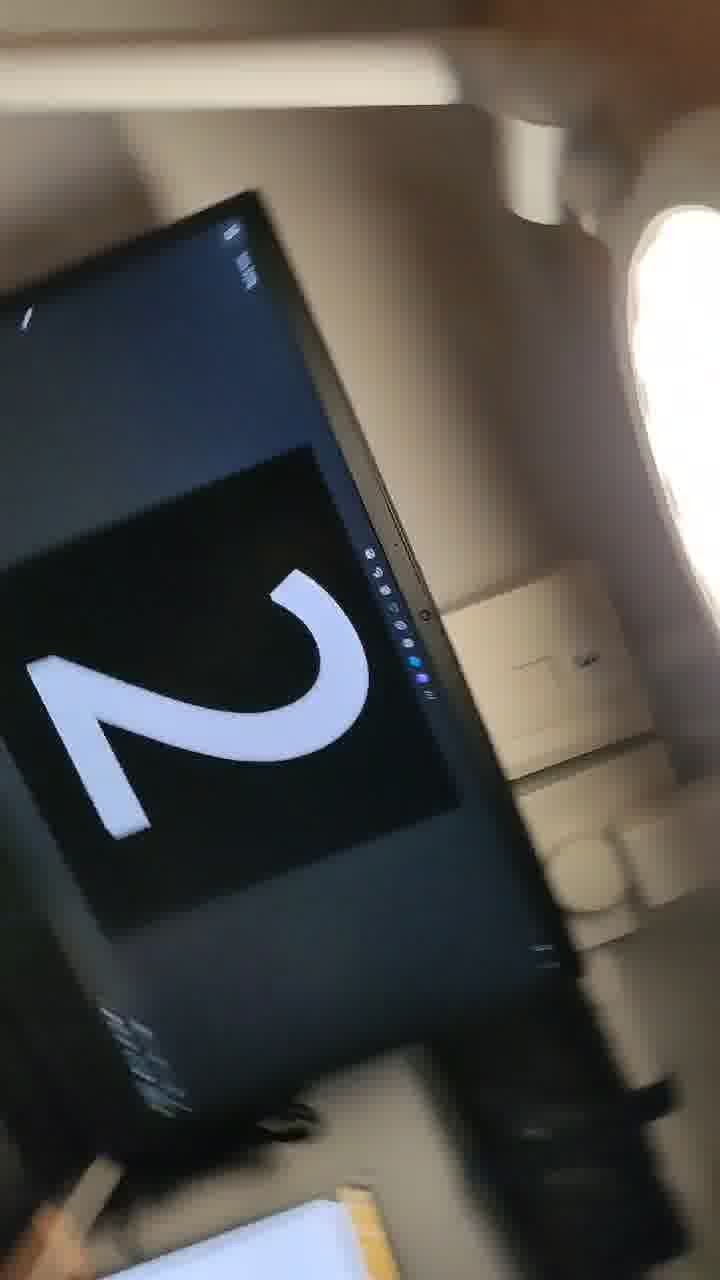two: (1, 497, 484, 942)
